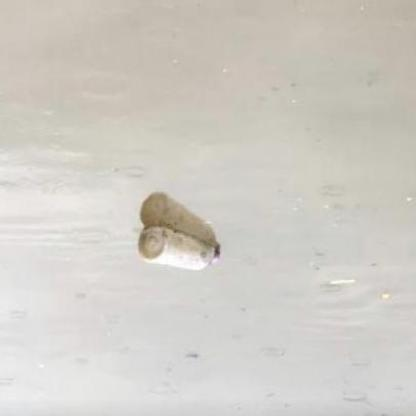plastic bottle: (140, 228, 221, 271)
